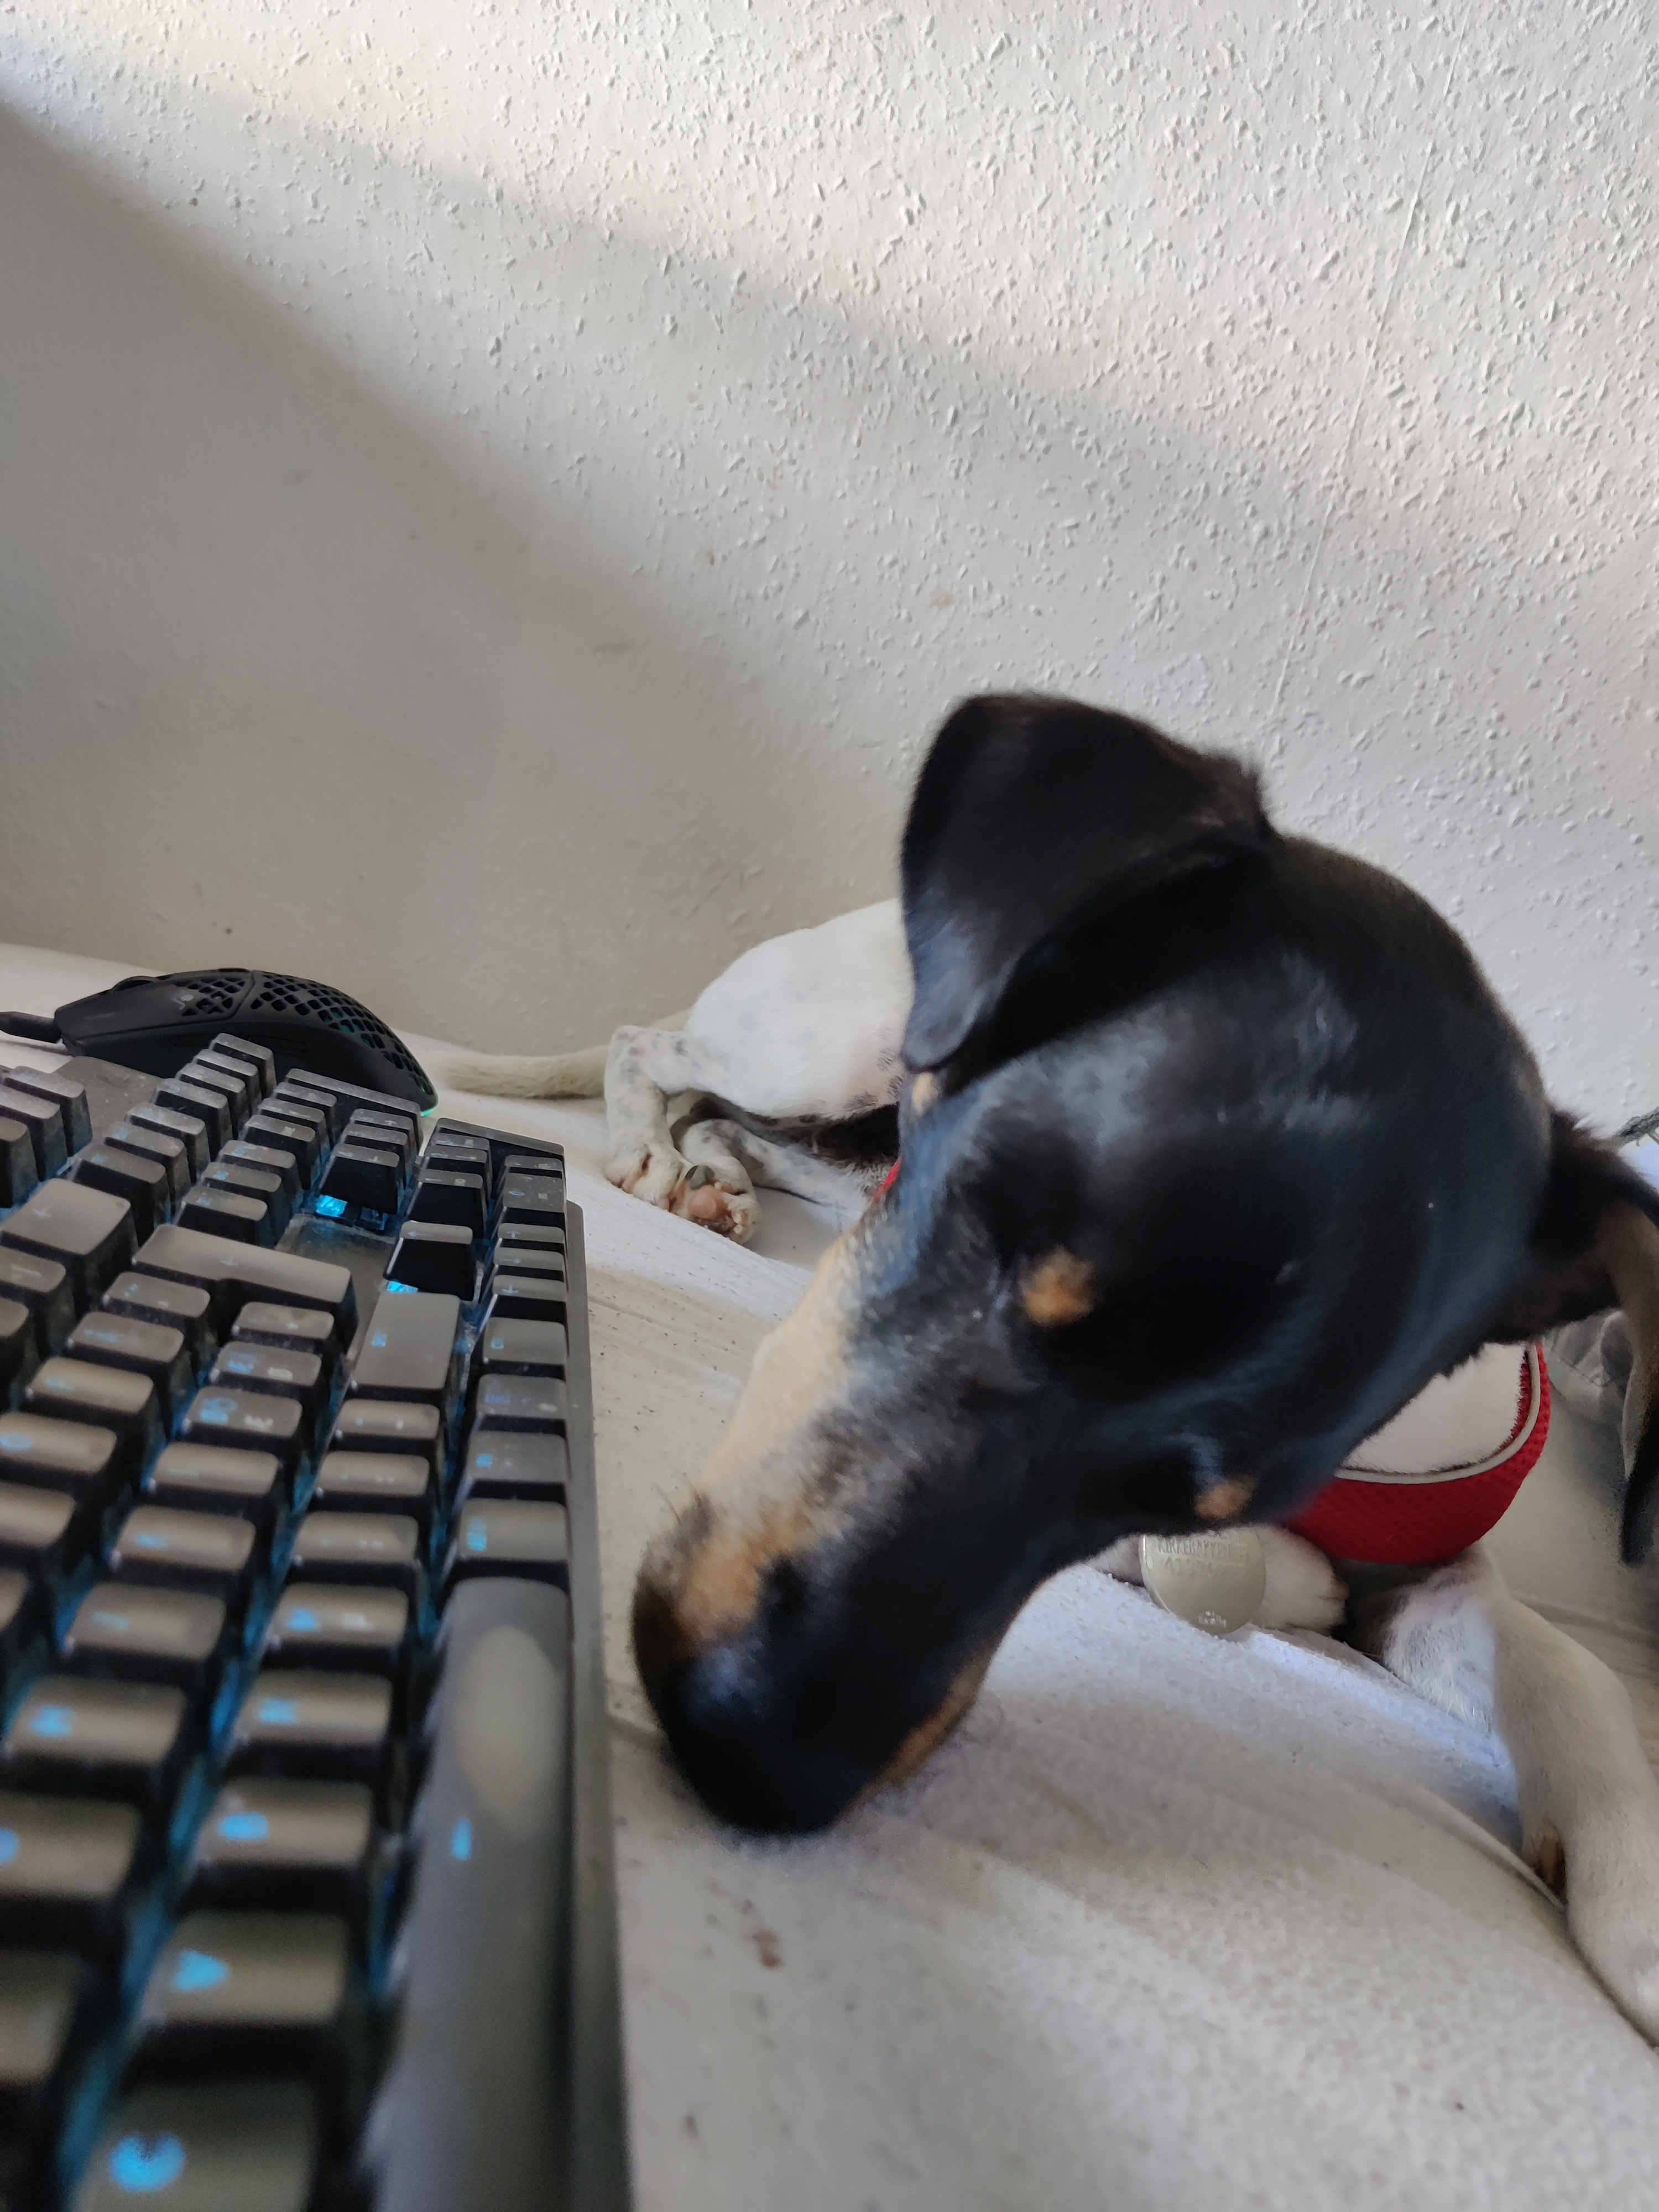Dog: (415, 672, 1659, 2104)
